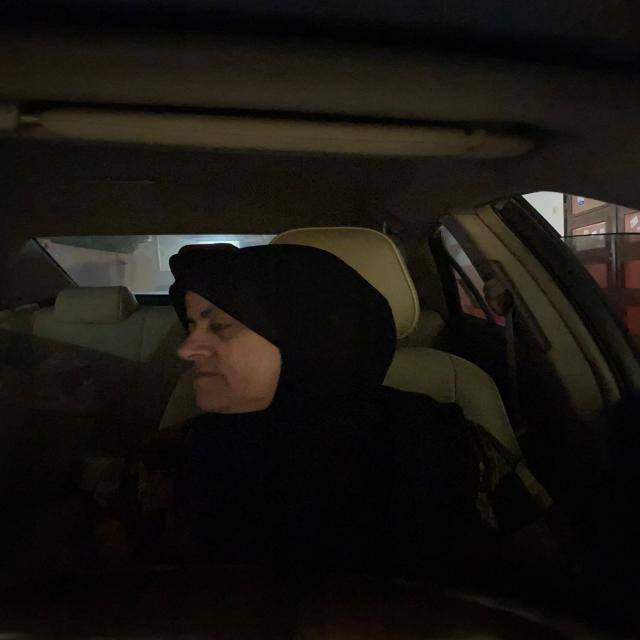LeftRight: (150, 252, 353, 425)
